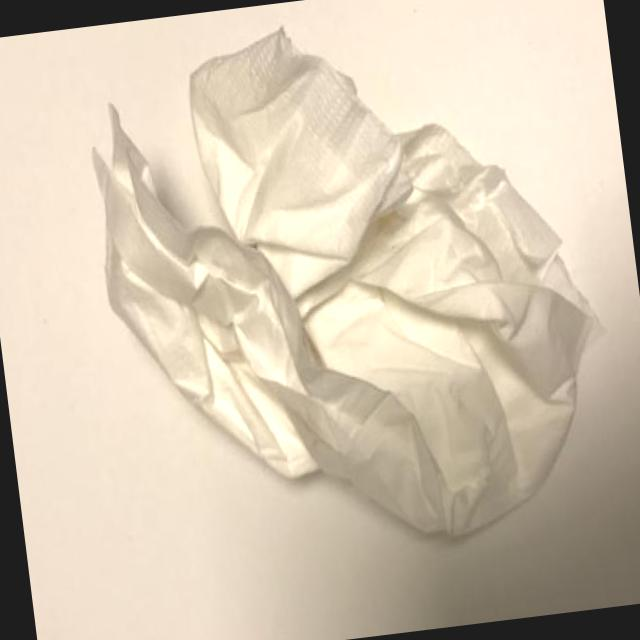Recycle: (74, 0, 619, 576)
